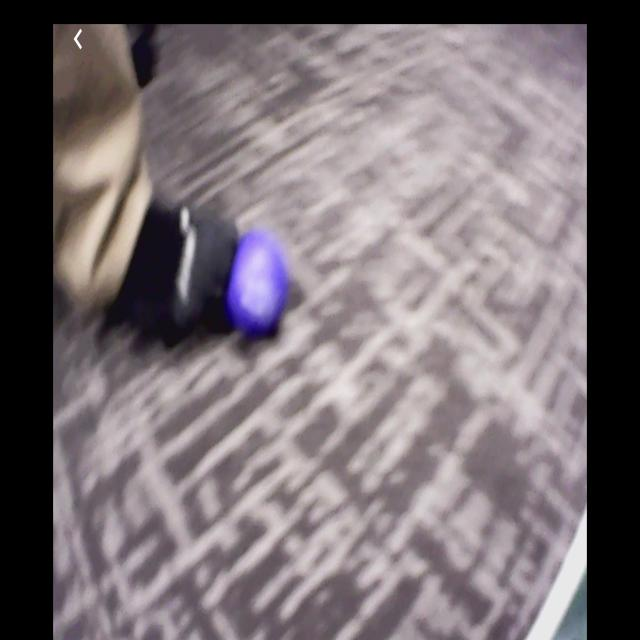ball: (229, 229, 289, 338)
